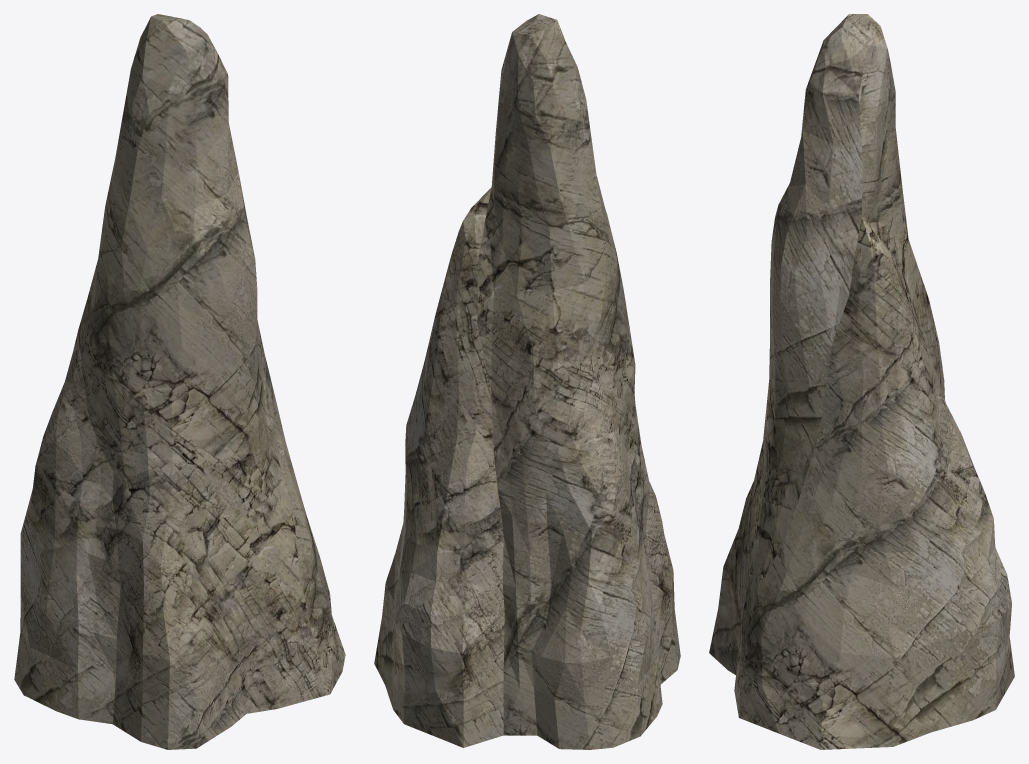
Rendered from tw2_1_rock_05_2-transformed.glb.
3 renders of one model, left to right at view 1: azimuth 30°, elevation 25°; view 2: azimuth 150°, elevation 25°; view 3: azimuth 270°, elevation 25°, orthographic.
Visible parts, largest first — view 1: default; view 2: default; view 3: default.
Part boxes in pixels (<box>): default: <box>14,14,345,749</box>; default: <box>374,14,680,749</box>; default: <box>709,14,1014,749</box>.
Size of the model in its own units: 4.04 by 9.21 by 3.88.
Materials: 1 (1 with a texture image).
